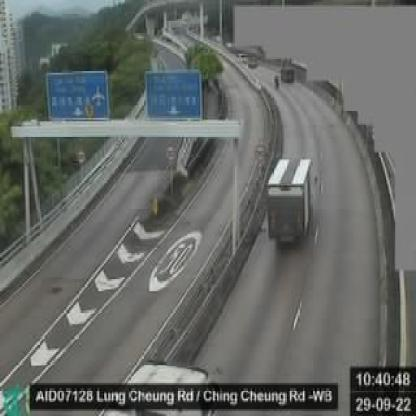Truck: (264, 151, 317, 253)
